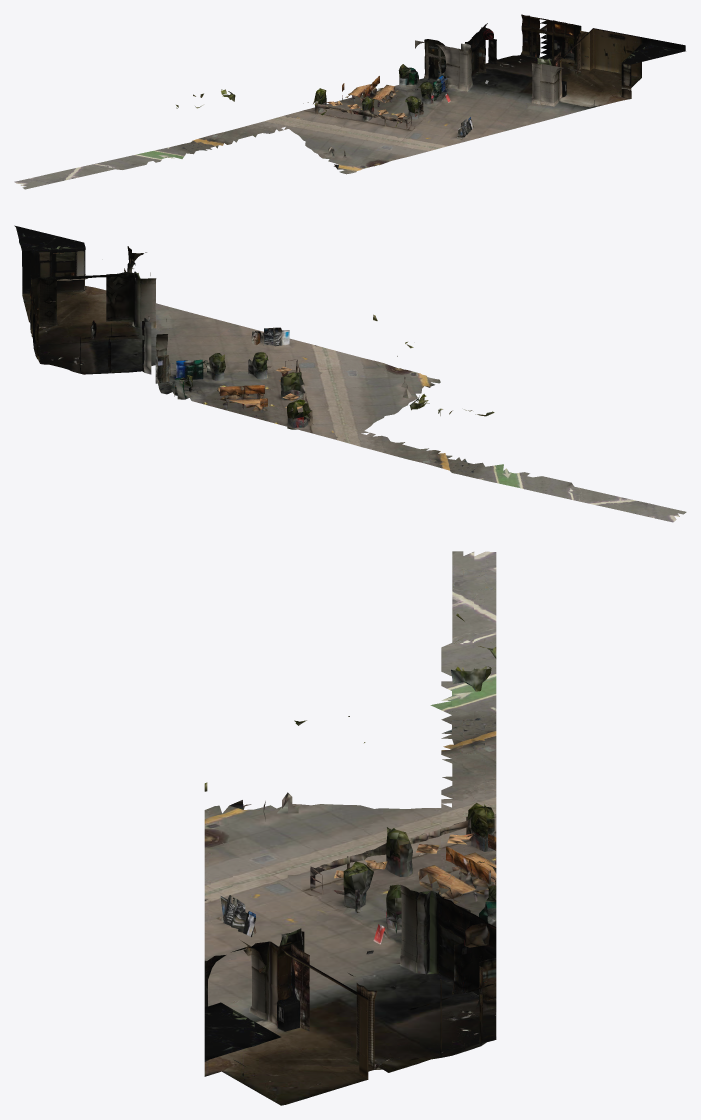
3 views of the same model, one above another, from view 1: azimuth 30°, elevation 25°; view 2: azimuth 150°, elevation 25°; view 3: azimuth 270°, elevation 25° (orthographic). The views are drawn at different scales.
Bounding box in the file's own units: 58.67 × 6.59 × 12.34.
1 material, 1 textured.
